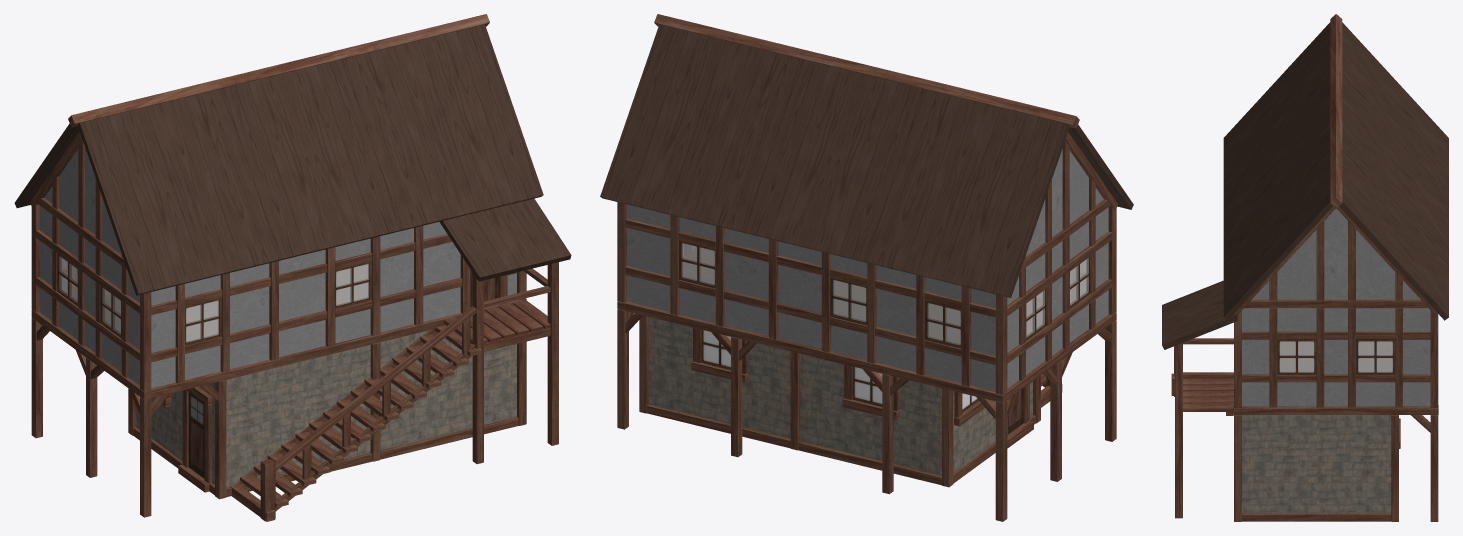
The model's file is home_2.glb.
3 views of the same model, side by side, from view 1: azimuth 30°, elevation 25°; view 2: azimuth 150°, elevation 25°; view 3: azimuth 270°, elevation 25° (orthographic). The views are drawn at different scales.
Parts seen in each view (by area): view 1: Cube.003_2, Cube.001_3, stone.001_66, stone_1, stone.002_4, wood - 2m.004_124, Cube.005_134, wood - 10m .001_18, wood - 10m .002_19, wood - 10m .007_82, wood - 10m .008_83, wood - 2m.005_125 (+39 smaller); view 2: Cube.003_2, Cube.001_3, stone.003_5, stone.004_6, stone_1, wood - 10m .001_18, wood - 10m .003_20, wood - 10m .010_84, wood - 10m .011_85, Cube.013_0, wood - 3m - 1.005_23, window 1.009_73 (+37 smaller); view 3: Cube.003_2, stone.005_135, Cube.013_0, Cube.005_134, wood - 10m .001_18, wood - 5m - 1.003_27, wood - 2m.005_125, wood - 5m - 1.004_28, Cube.004_113, wood - 5m - 1.014_79, window 1.007_71, window 1.006_70 (+15 smaller).
Part boxes in pixels (x1=…): Cube.003_2: x1=14, y1=24, x2=543, y2=295; Cube.001_3: x1=226, y1=330, x2=516, y2=487; stone.001_66: x1=151, y1=249, x2=325, y2=388; stone_1: x1=39, y1=147, x2=139, y2=385; stone.002_4: x1=335, y1=222, x2=516, y2=343; wood - 2m.004_124: x1=240, y1=325, x2=482, y2=507; Cube.005_134: x1=439, y1=198, x2=571, y2=281; wood - 10m .001_18: x1=68, y1=14, x2=489, y2=127; wood - 10m .002_19: x1=151, y1=300, x2=519, y2=397; wood - 10m .007_82: x1=151, y1=272, x2=518, y2=362; wood - 10m .008_83: x1=151, y1=234, x2=452, y2=314; wood - 2m.005_125: x1=444, y1=300, x2=550, y2=345; Cube.003_2: x1=600, y1=24, x2=1133, y2=297; Cube.001_3: x1=649, y1=317, x2=941, y2=475; stone.003_5: x1=627, y1=204, x2=812, y2=346; stone.004_6: x1=812, y1=249, x2=995, y2=391; stone_1: x1=1007, y1=149, x2=1108, y2=388; wood - 10m .001_18: x1=654, y1=14, x2=1079, y2=128; wood - 10m .003_20: x1=624, y1=301, x2=995, y2=401; wood - 10m .010_84: x1=625, y1=218, x2=995, y2=317; wood - 10m .011_85: x1=625, y1=266, x2=995, y2=365; Cube.013_0: x1=953, y1=381, x2=1032, y2=472; wood - 3m - 1.005_23: x1=995, y1=400, x2=1007, y2=521; window 1.009_73: x1=830, y1=277, x2=867, y2=325; Cube.003_2: x1=1223, y1=22, x2=1448, y2=320; stone.005_135: x1=1242, y1=208, x2=1430, y2=406; Cube.013_0: x1=1242, y1=415, x2=1391, y2=513; Cube.005_134: x1=1162, y1=280, x2=1237, y2=349; wood - 10m .001_18: x1=1330, y1=14, x2=1342, y2=208; wood - 5m - 1.003_27: x1=1233, y1=405, x2=1438, y2=414; wood - 2m.005_125: x1=1183, y1=372, x2=1233, y2=411; wood - 5m - 1.004_28: x1=1244, y1=299, x2=1428, y2=308; Cube.004_113: x1=1280, y1=342, x2=1391, y2=371; wood - 5m - 1.014_79: x1=1316, y1=221, x2=1324, y2=407; window 1.007_71: x1=1277, y1=339, x2=1316, y2=375; window 1.006_70: x1=1356, y1=339, x2=1395, y2=375.
Size of the model in its own units: 11.08 by 9.33 by 7.3.
Materials: 1 (1 with a texture image).
